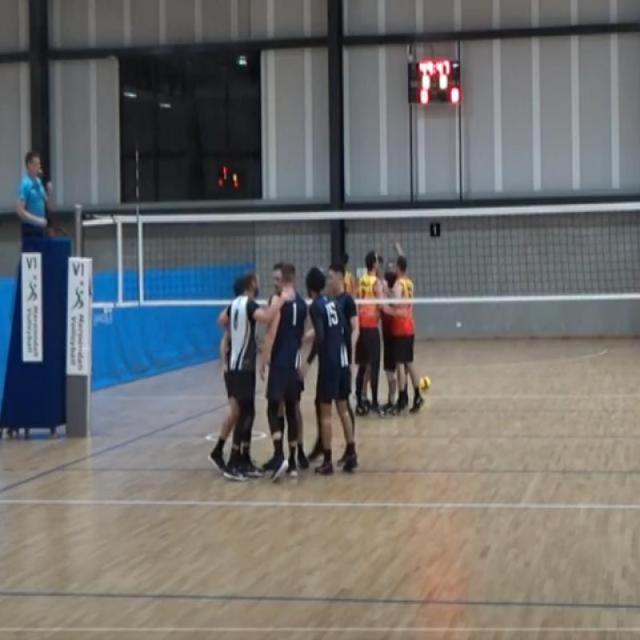volleyball: (418, 374, 431, 392)
